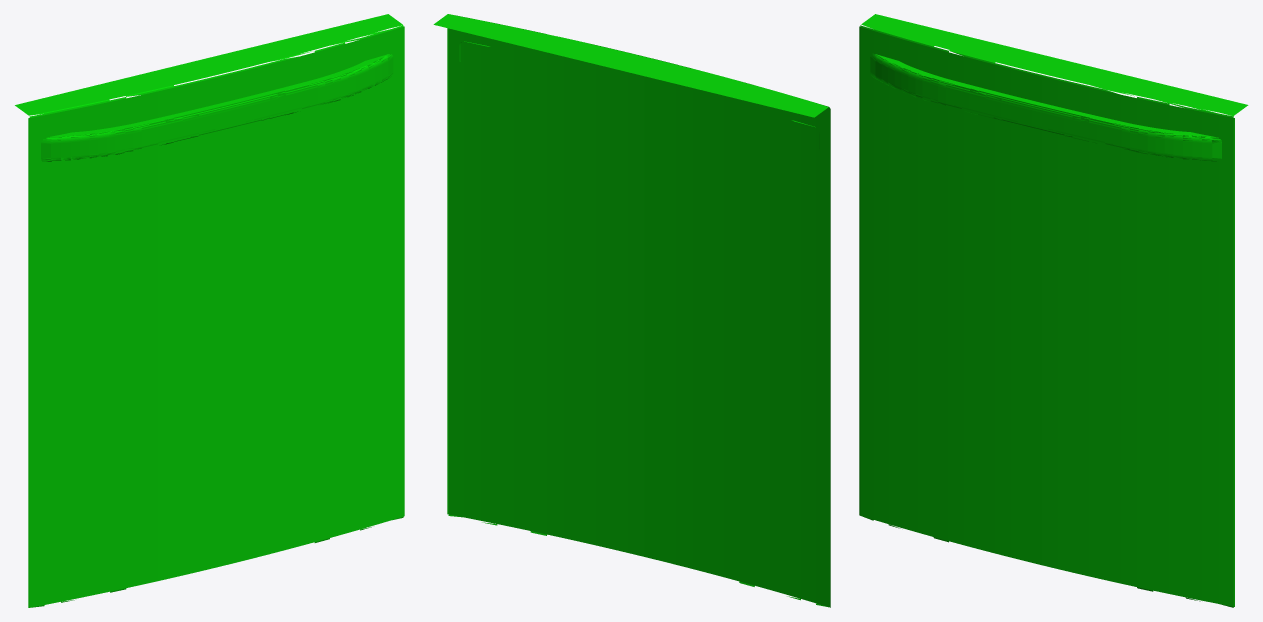
Rendered from pred_area.obj.
The picture shows the model from 3 angles, left to right: view 1: azimuth 30°, elevation 25°; view 2: azimuth 150°, elevation 25°; view 3: azimuth 330°, elevation 25°; orthographic projection. The views are drawn at different scales.
Bounding box in the file's own units: 1.04 × 1.31 × 0.1401.
